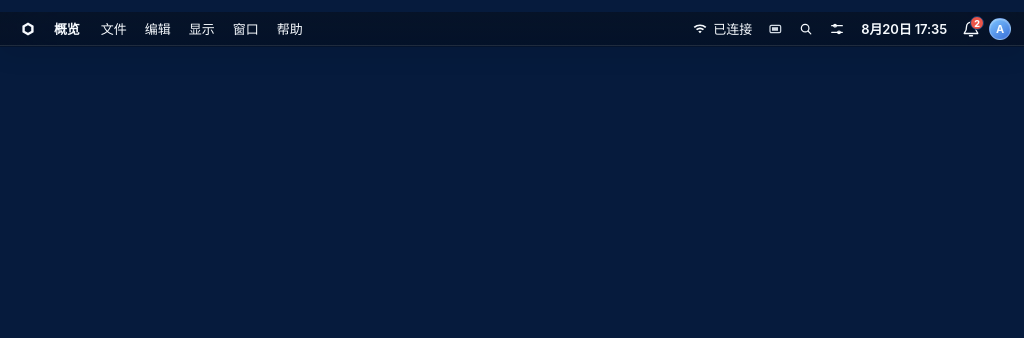
Test: TopBarComponent › opens the local notification center and marks every notification as read
Click the button with class "notification-trigger".
click(970, 28)  # box [957, 15, 984, 42]
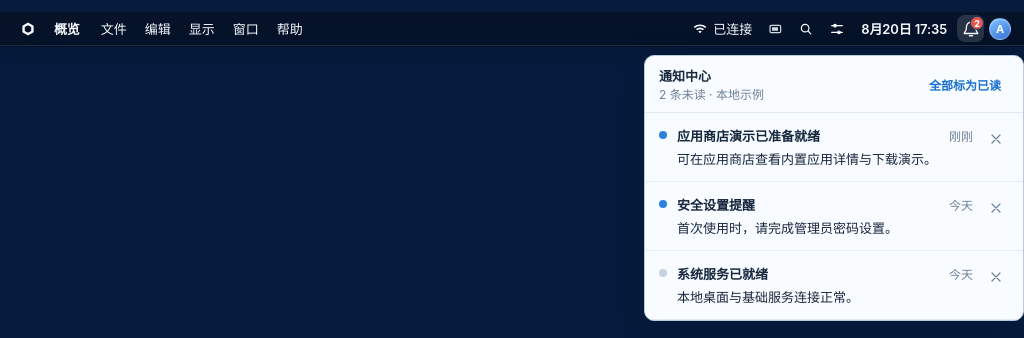
Expected: the element with class "notification-center" is shown, [644, 55, 1023, 321]
Expected: the text "2 条未读 · 本地示例" is shown, [659, 87, 764, 102]
Click the button "全部标为已读".
click(965, 84)  # box [921, 70, 1009, 98]
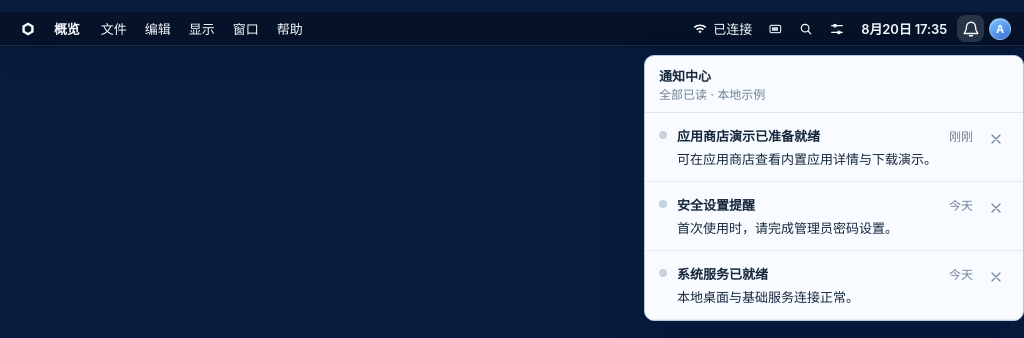
Expected: the text "全部已读 · 本地示例" is shown, [659, 87, 765, 102]
Expected: the text with class "notification-badge" is gone
